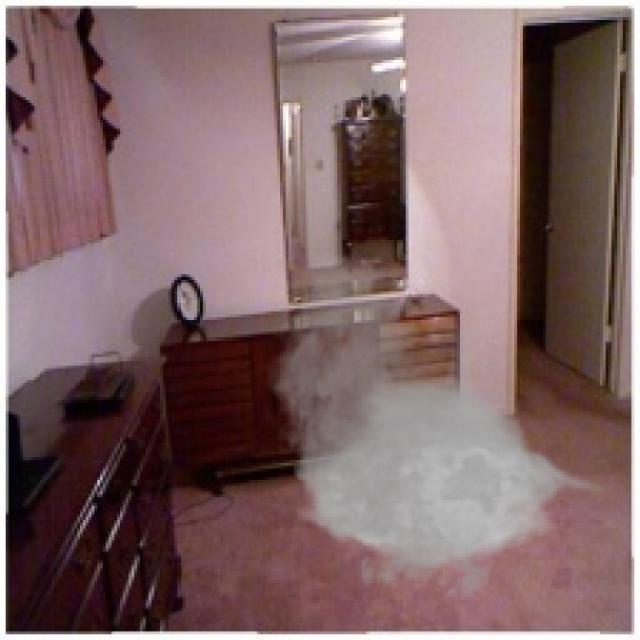Smoke: (257, 248, 612, 612)
